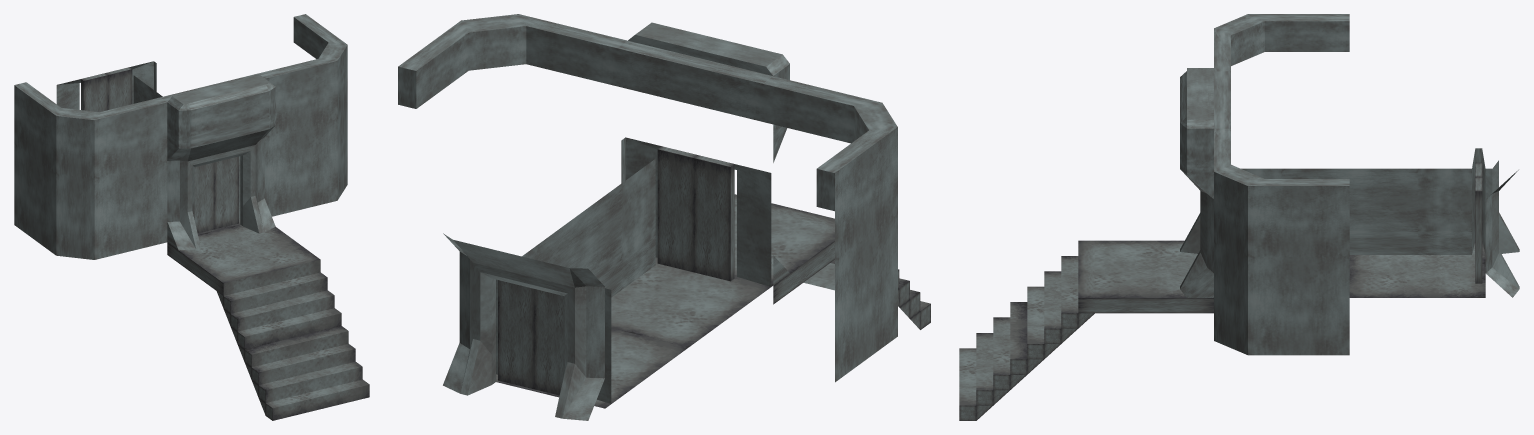
File: bunker_entrance.gltf
3 views of the same model, side by side, from view 1: azimuth 30°, elevation 25°; view 2: azimuth 150°, elevation 25°; view 3: azimuth 270°, elevation 25° (orthographic). The views are drawn at different scales.
Visible parts, largest first — view 1: bunker_entrance-col, door_front_r-convcol, door_front_l-convcol, door_back_r-convcol, door_back_l-convcol; view 2: bunker_entrance-col, door_front_l-convcol, door_front_r-convcol, door_back_l-convcol, door_back_r-convcol; view 3: bunker_entrance-col, door_back_l-convcol.
Part boxes in pixels (left/top/right/bottom): bunker_entrance-col: left=14, top=14, right=369, bottom=420; door_front_r-convcol: left=214, top=156, right=238, bottom=229; door_front_l-convcol: left=194, top=162, right=214, bottom=233; door_back_r-convcol: left=81, top=73, right=107, bottom=111; door_back_l-convcol: left=105, top=67, right=132, bottom=109; bunker_entrance-col: left=398, top=14, right=930, bottom=420; door_front_l-convcol: left=694, top=155, right=734, bottom=281; door_front_r-convcol: left=657, top=146, right=697, bottom=272; door_back_l-convcol: left=498, top=280, right=534, bottom=389; door_back_r-convcol: left=534, top=289, right=564, bottom=395; bunker_entrance-col: left=959, top=14, right=1519, bottom=420; door_back_l-convcol: left=1475, top=177, right=1482, bottom=283.
Size of the model in its own units: 12 by 9.7 by 16.5.
